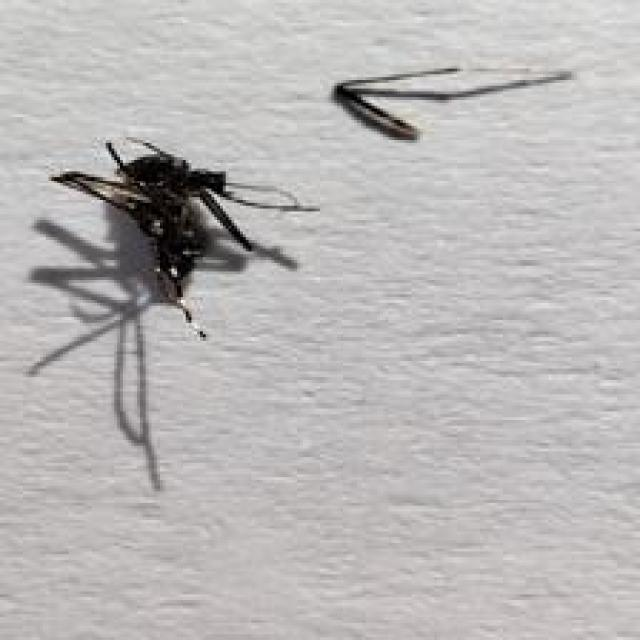Aedes albopictus: (23, 134, 320, 492)
